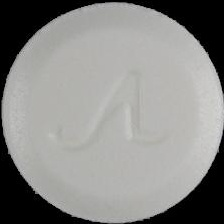43353-799: (0, 0, 224, 224)
